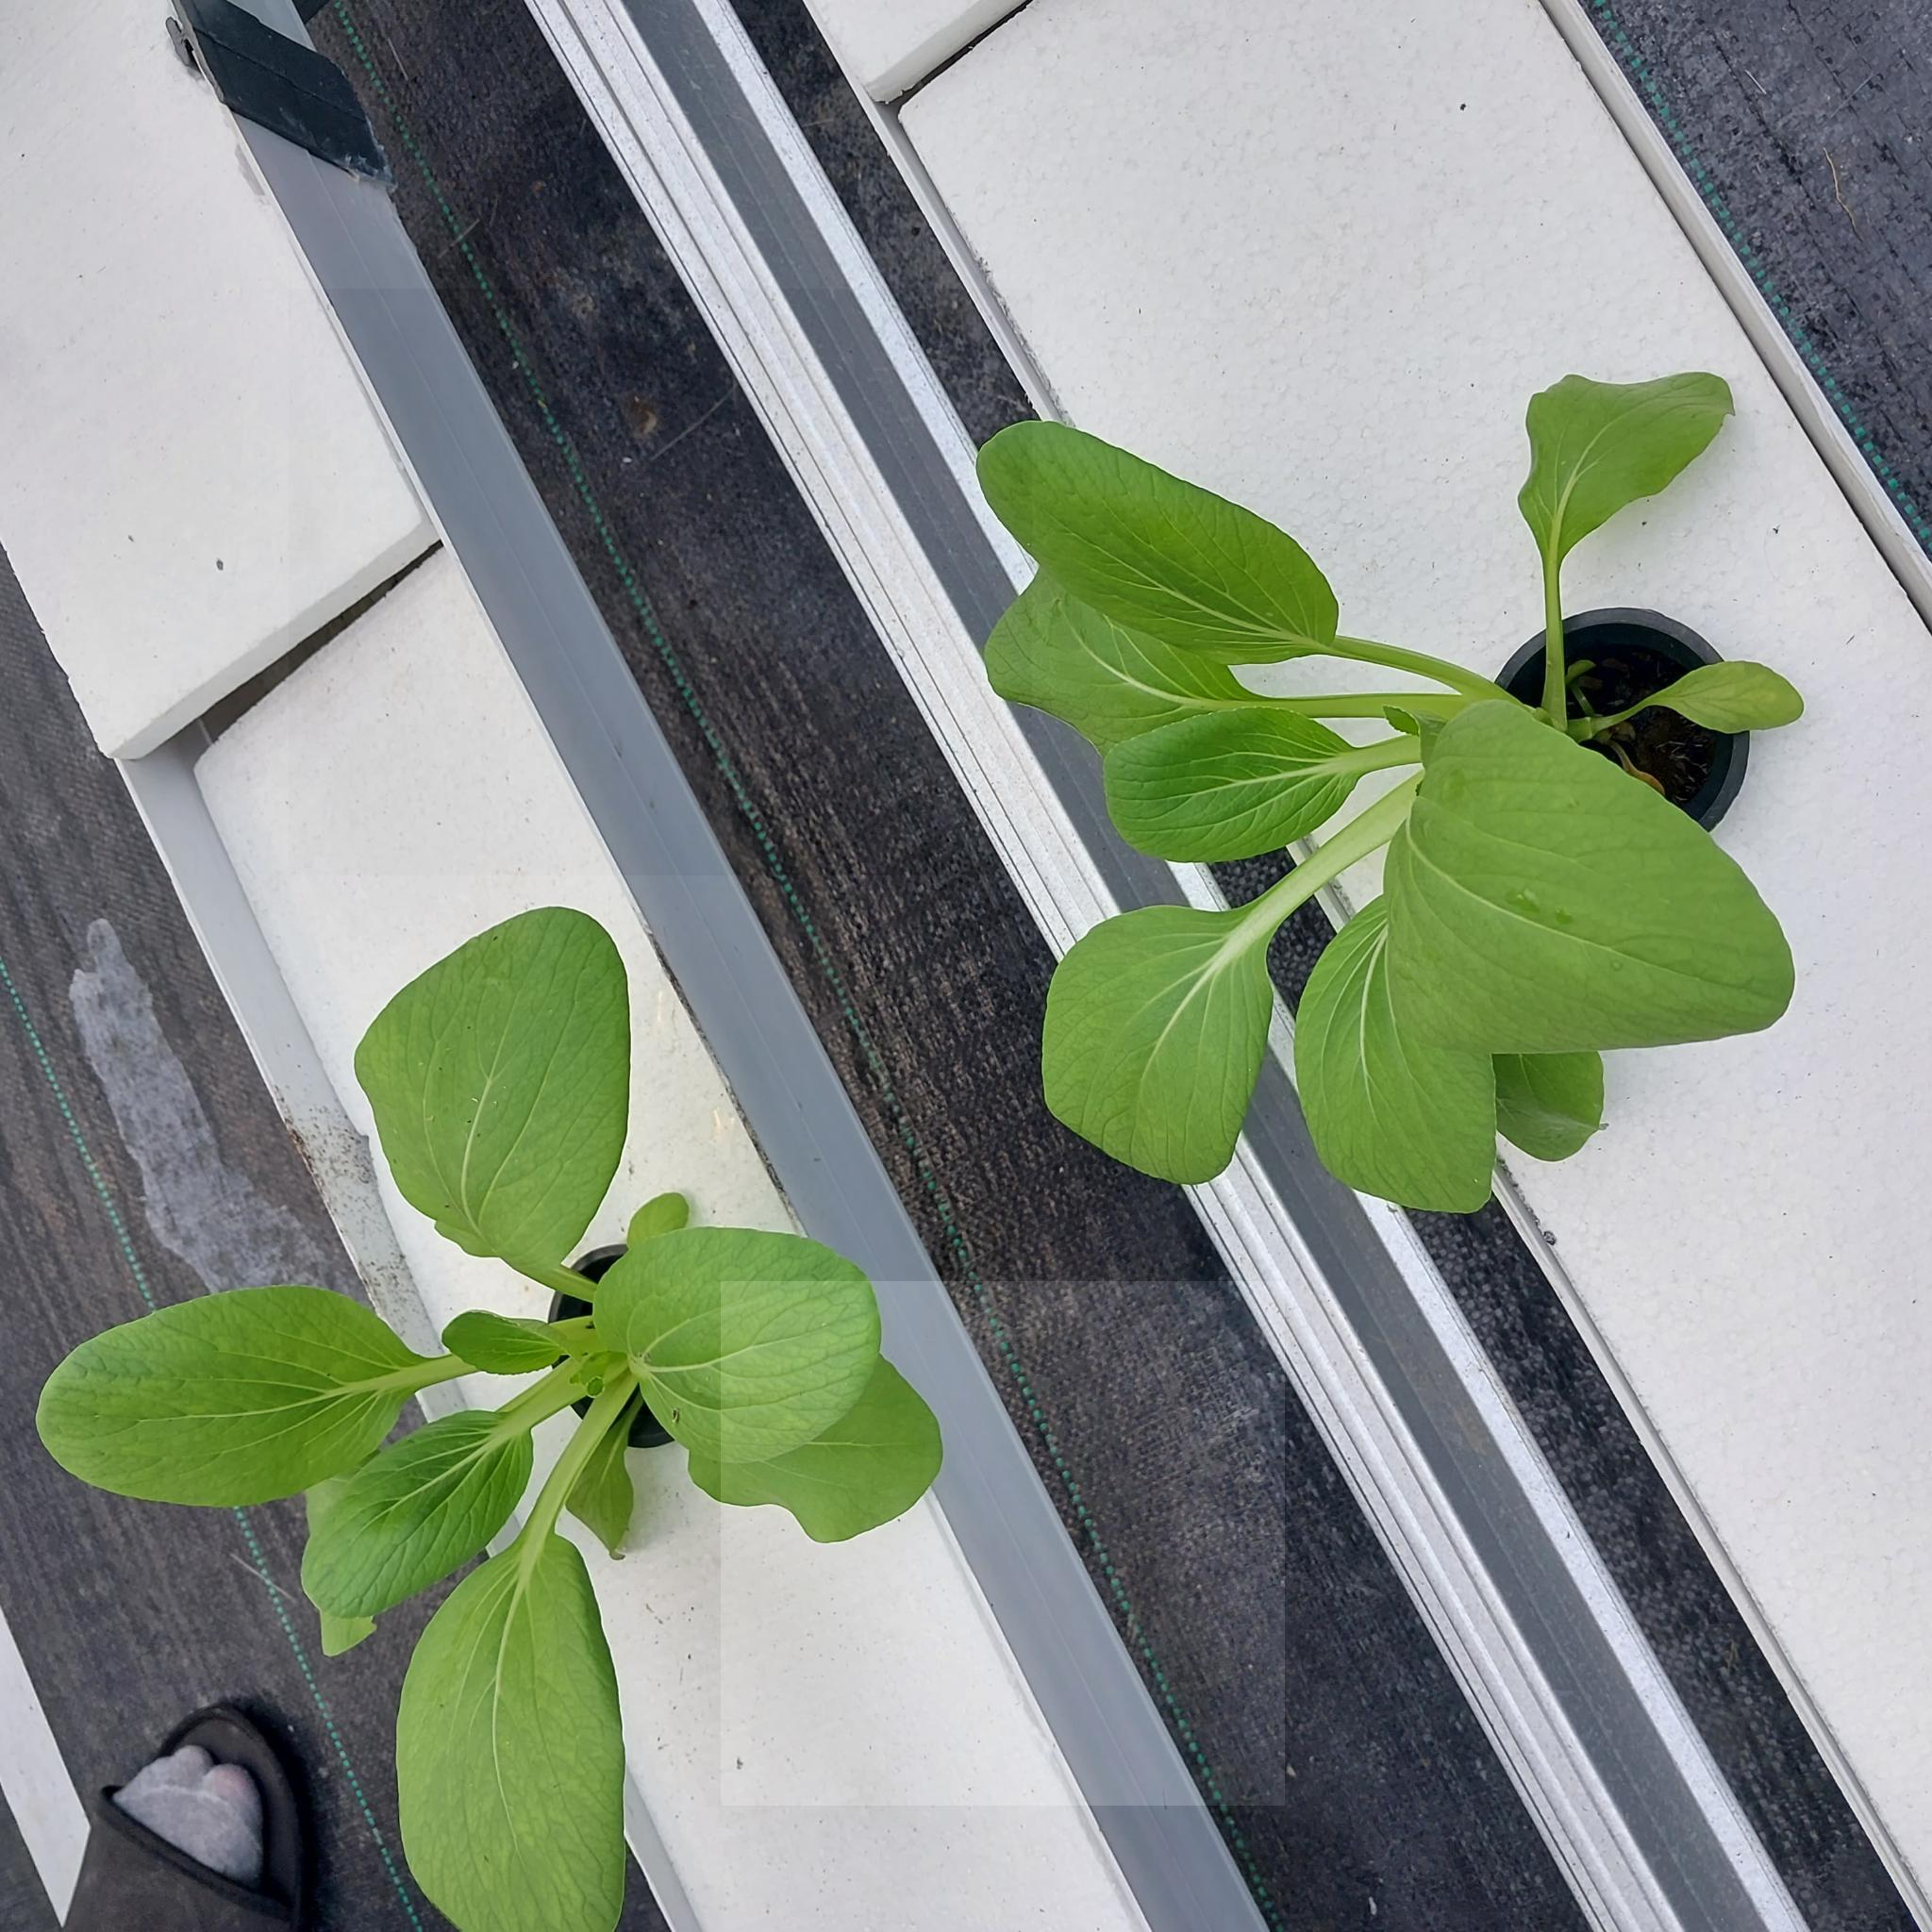Healthy-Pechay: (1279, 709, 1796, 1203), (977, 419, 1382, 697), (356, 915, 633, 1281), (34, 1286, 467, 1513), (398, 1507, 625, 1932), (1514, 366, 1743, 732), (602, 1226, 890, 1470), (1295, 906, 1500, 1219), (303, 1407, 548, 1638), (1102, 706, 1438, 865), (702, 1345, 939, 1545), (984, 571, 1238, 754), (1131, 924, 1263, 1150), (518, 1368, 635, 1582), (1260, 773, 1421, 911), (1302, 635, 1523, 711), (363, 1353, 462, 1398)
